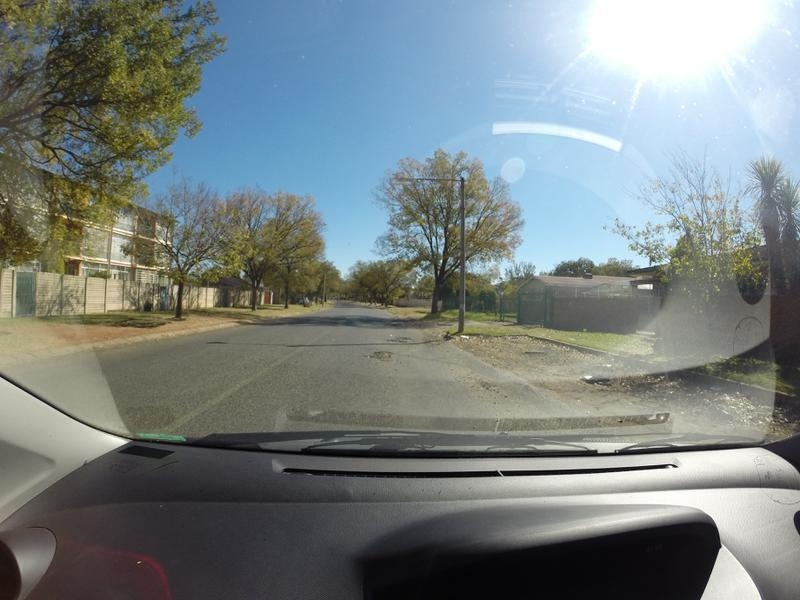pothole: (368, 342, 395, 364), (382, 333, 409, 343)
